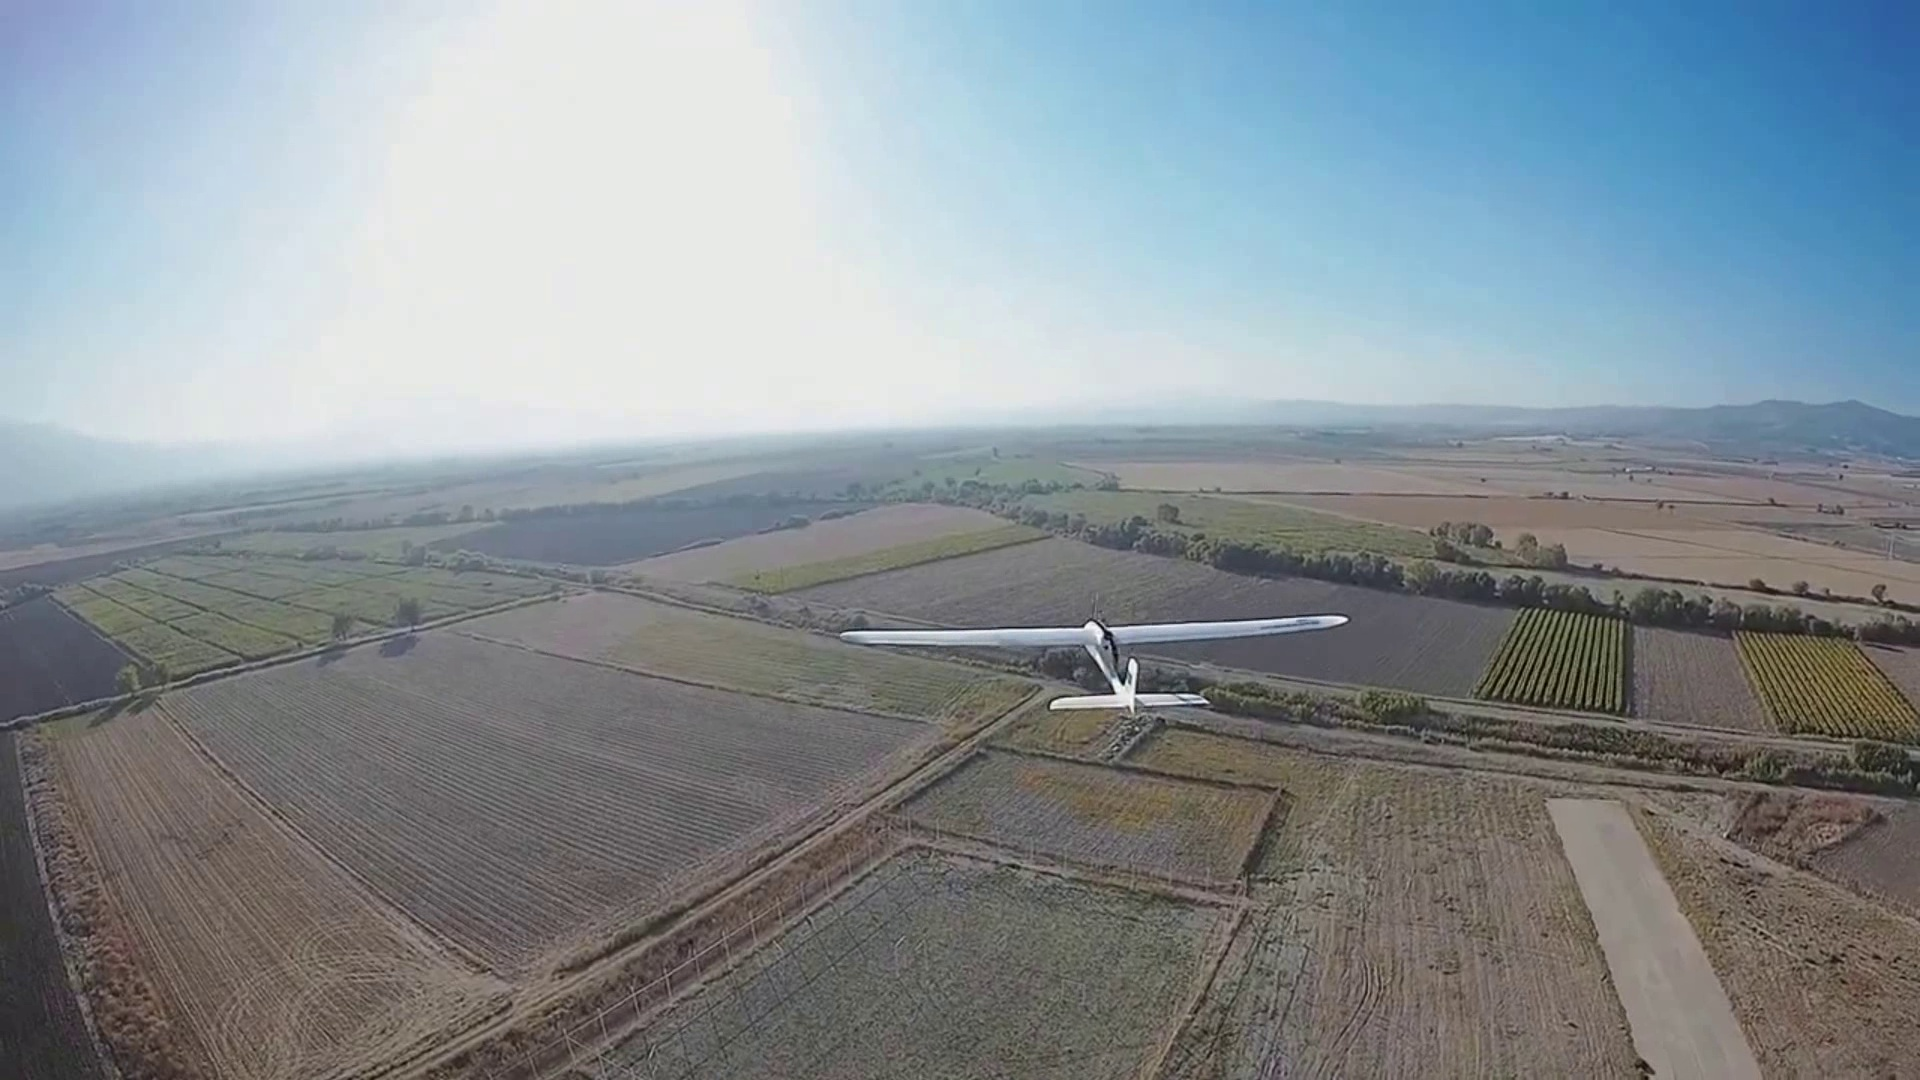airplane: (836, 607, 1350, 708)
